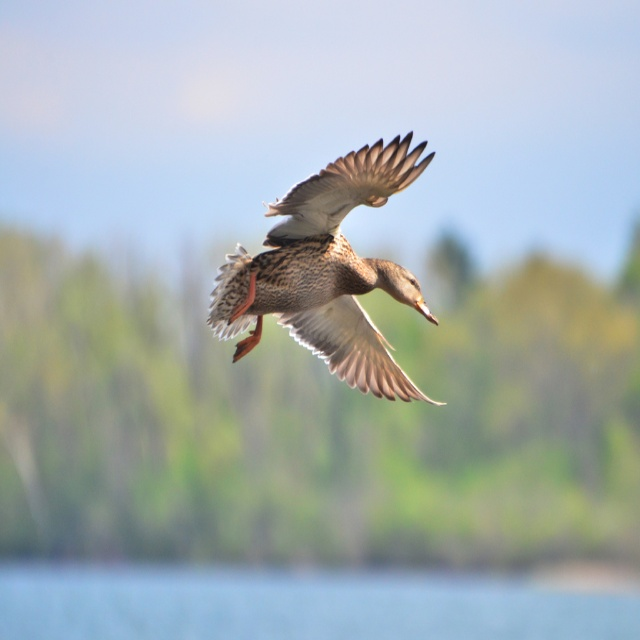Duck: (206, 126, 465, 398)
